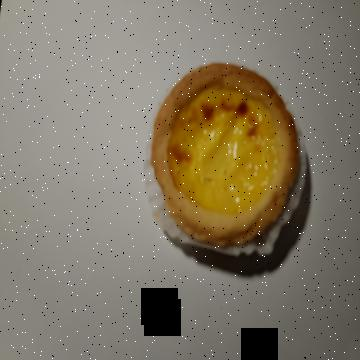EggTart: (152, 62, 300, 246)
